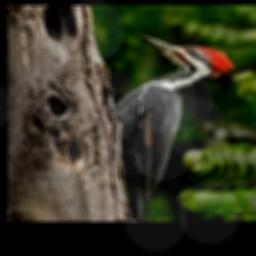Woodpecker: (111, 35, 234, 221)
